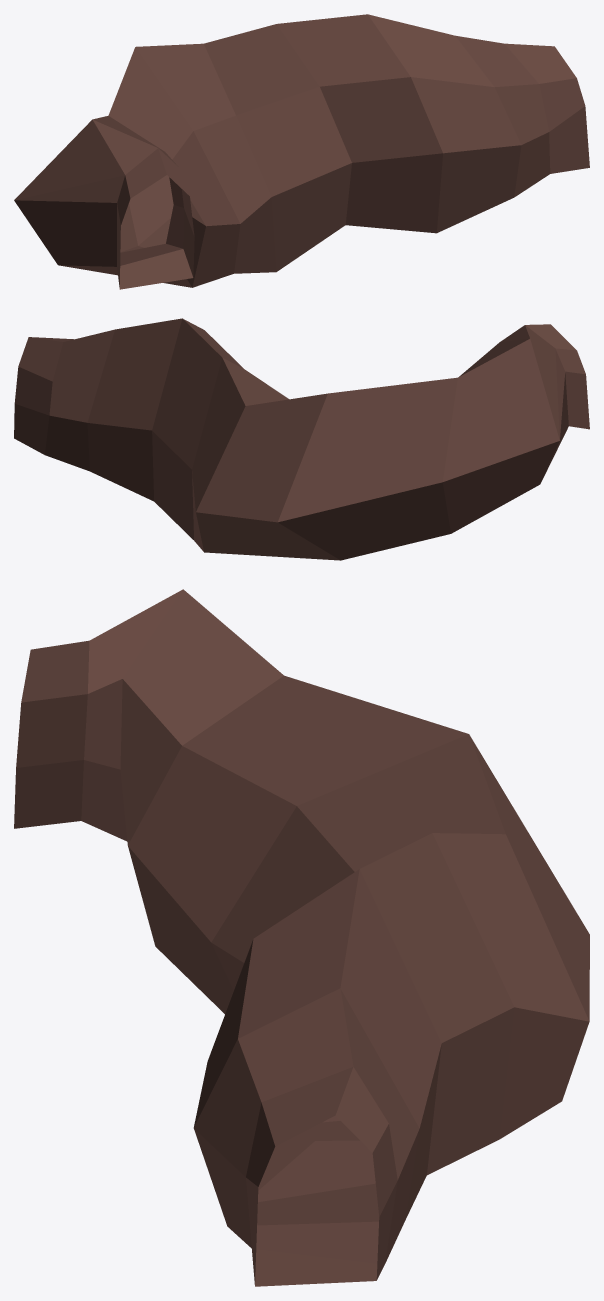
Rendered from Tunnel-C06.fbx.
3 views of the same model, one above another, from view 1: azimuth 30°, elevation 25°; view 2: azimuth 150°, elevation 25°; view 3: azimuth 270°, elevation 25° (orthographic). The views are drawn at different scales.
Parts seen in each view (by area): view 1: Tunnel-C06; view 2: Tunnel-C06; view 3: Tunnel-C06.
Boxes of the visible parts, x1,y1,x2,y2 form: Tunnel-C06: (14,14,589,289); Tunnel-C06: (14,318,589,560); Tunnel-C06: (14,589,589,1286).
Bounding box in the file's own units: 796 × 1439 × 559.
